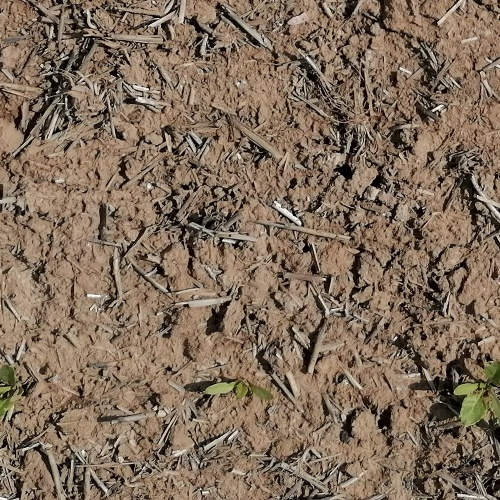beet: (454, 358, 500, 425), (204, 372, 275, 407), (0, 360, 21, 415)
